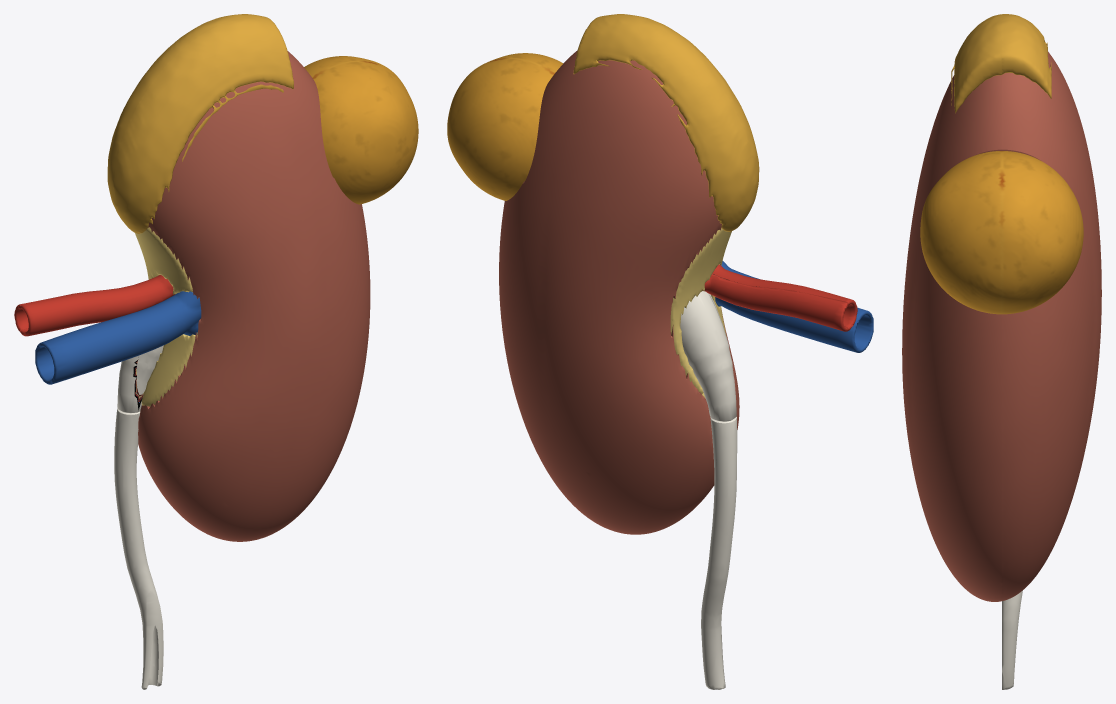
File: kidney_t1a_coronal.glb
3 renders of one model, left to right at view 1: azimuth 30°, elevation 25°; view 2: azimuth 150°, elevation 25°; view 3: azimuth 270°, elevation 25°, orthographic. The views are drawn at different scales.
Visible parts, largest first — view 1: anterior_half, ureter, adrenal_gland, renal_pelvis, tumor; view 2: renal_cortex, adrenal_gland, tumor, anterior_half, ureter, renal_pelvis, renal_artery, renal_sinus; view 3: anterior_half, renal_cortex, tumor, adrenal_gland, ureter.
Boxes of the visible parts, x1=… form: anterior_half: x1=20, y1=18, x2=418, y2=541; ureter: x1=114, y1=408, x2=163, y2=689; adrenal_gland: x1=107, y1=14, x2=271, y2=229; renal_pelvis: x1=117, y1=355, x2=143, y2=413; tumor: x1=304, y1=56, x2=391, y2=78; renal_cortex: x1=499, y1=50, x2=721, y2=534; adrenal_gland: x1=573, y1=15, x2=754, y2=231; tumor: x1=447, y1=58, x2=553, y2=200; anterior_half: x1=484, y1=14, x2=873, y2=526; ureter: x1=701, y1=417, x2=737, y2=689; renal_pelvis: x1=680, y1=291, x2=736, y2=421; renal_artery: x1=702, y1=274, x2=848, y2=331; renal_sinus: x1=670, y1=228, x2=727, y2=398; anterior_half: x1=902, y1=14, x2=1001, y2=601; renal_cortex: x1=1002, y1=52, x2=1101, y2=600; tumor: x1=1002, y1=151, x2=1083, y2=314; adrenal_gland: x1=1002, y1=14, x2=1051, y2=98; ureter: x1=1002, y1=590, x2=1022, y2=689.
Size of the model in its own units: 8.96 by 14.23 by 3.66.
Materials: 1 (1 with a texture image).
